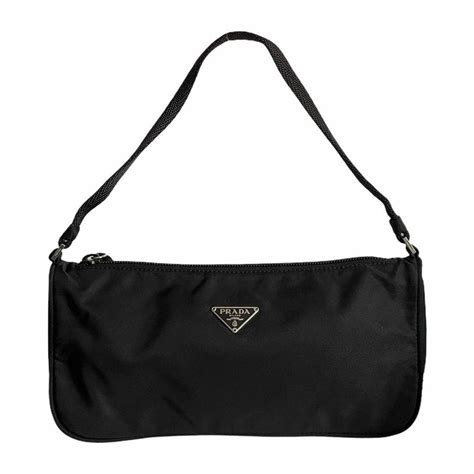nylon: (47, 251, 427, 441)
